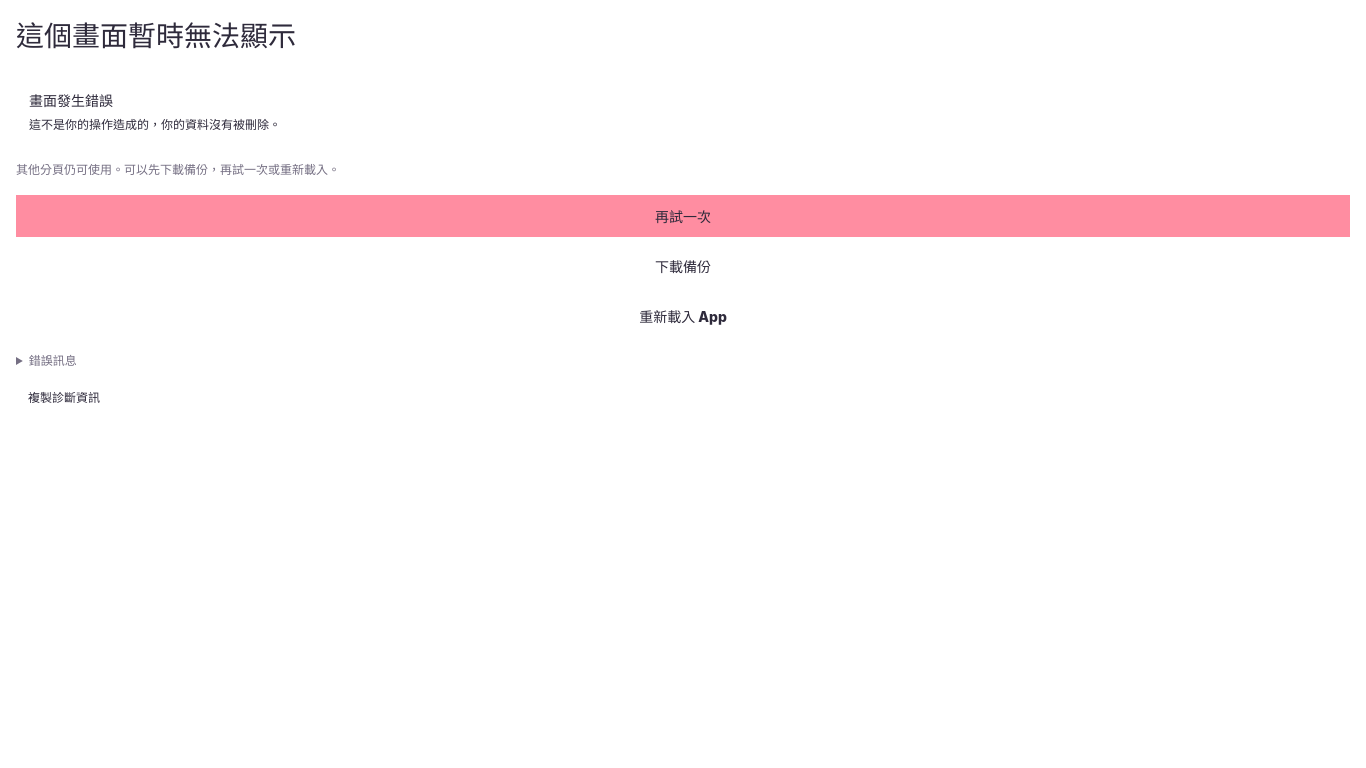
Test: copying diagnostics from either fallback › the screen fallback shows the report for manual copying when the clipboard refuses
The image size is (1366, 768).
Click the button "複製診斷資訊". click: (64, 397)
box: left=16, top=381, right=112, bottom=412
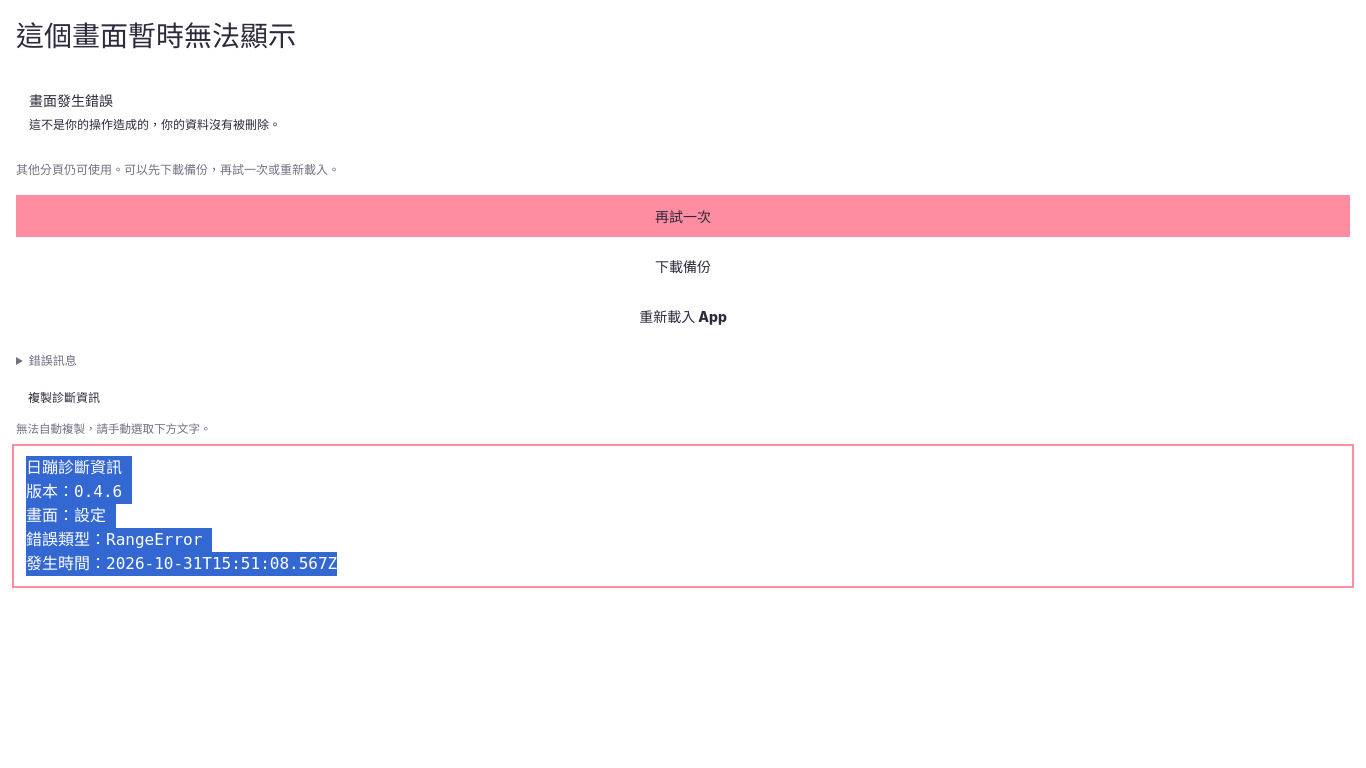
Now the message "無法自動複製，請手動選取下方文字。" is shown, box left=16, top=422, right=212, bottom=436
